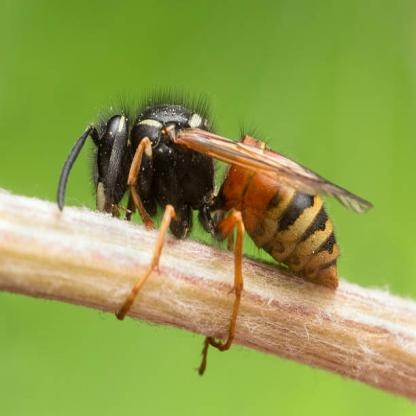sawfly: (53, 87, 374, 378)
